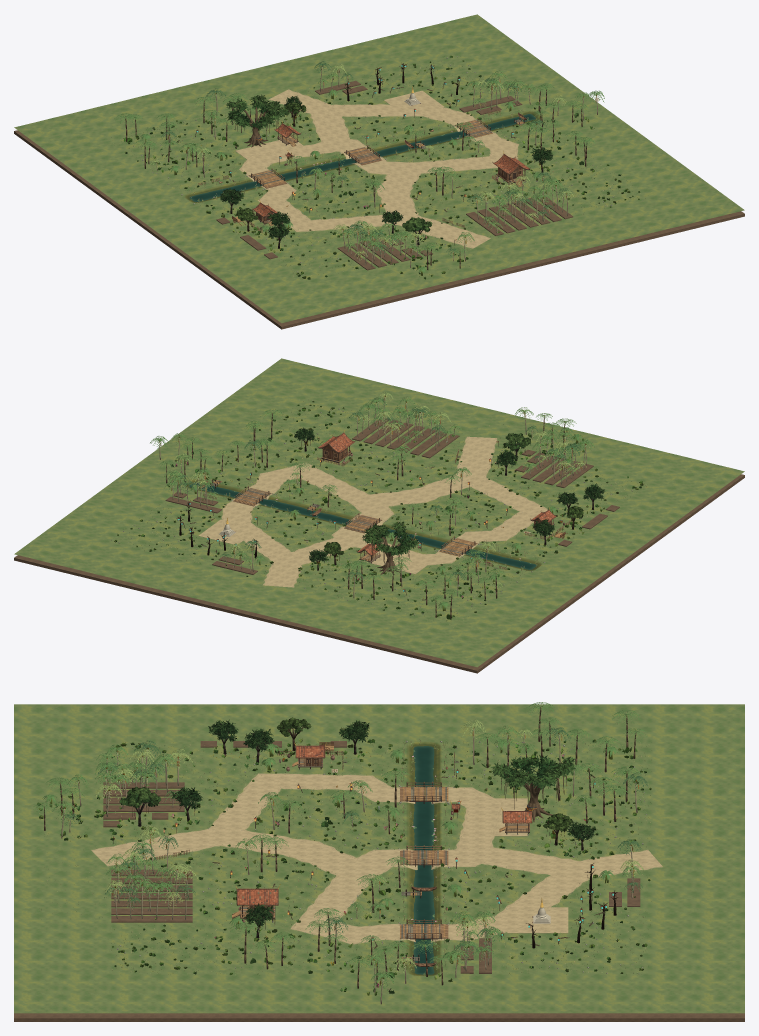
File: old-orchard.glb
3 renders of one model, top to bottom at view 1: azimuth 30°, elevation 25°; view 2: azimuth 150°, elevation 25°; view 3: azimuth 270°, elevation 25°, orthographic. The views are drawn at different scales.
Parts seen in each view (by area): view 1: Ground - varied meadow | grass, Tracks - worn earth | path, Soil foundation | earth, Raised orchard beds | earth, Organic tree foliage | real bushes, Feathered road shoulders | path_edge, Palm feather leaflets | leaf2, Areca slender trunks | arecatrunk2, Water surface | water, Areca pinnate fronds | leaf2, Areca pinnate fronds | leaf4, Areca pinnate fronds | leaf3 (+9 smaller); view 2: Ground - varied meadow | grass, Tracks - worn earth | path, Soil foundation | earth, Raised orchard beds | earth, Organic tree foliage | real bushes, Feathered road shoulders | path_edge, Palm feather leaflets | leaf2, Areca slender trunks | arecatrunk2, Water surface | water, Areca pinnate fronds | leaf2, Palm feather leaflets | leaf4, Curved palm trunks | trunk (+9 smaller); view 3: Ground - varied meadow | grass, Tracks - worn earth | path, Organic tree foliage | real bushes, Raised orchard beds | earth, Soil foundation | earth, Feathered road shoulders | path_edge, Palm feather leaflets | leaf2, Water surface | water, Areca slender trunks | arecatrunk2, Areca pinnate fronds | leaf2, Areca pinnate fronds | leaf3, Palm feather leaflets | leaf4 (+20 smaller).
Boxes of the visible parts, x1,y1,x2,y2 form: Ground - varied meadow | grass: (14,14,744,323); Tracks - worn earth | path: (242,90,516,247); Soil foundation | earth: (14,130,744,329); Raised orchard beds | earth: (216,80,573,270); Organic tree foliage | real bushes: (123,55,639,279); Feathered road shoulders | path_edge: (239,89,518,248); Palm feather leaflets | leaf2: (114,79,595,256); Areca slender trunks | arecatrunk2: (156,66,597,267); Water surface | water: (189,114,535,201); Areca pinnate fronds | leaf2: (179,70,590,251); Areca pinnate fronds | leaf4: (326,72,604,254); Areca pinnate fronds | leaf3: (193,63,573,246); Ground - varied meadow | grass: (14,358,744,667); Tracks - worn earth | path: (224,436,546,587); Soil foundation | earth: (14,474,744,673); Raised orchard beds | earth: (165,417,619,574); Organic tree foliage | real bushes: (114,401,643,620); Feathered road shoulders | path_edge: (221,436,547,587); Palm feather leaflets | leaf2: (159,409,578,603); Areca slender trunks | arecatrunk2: (159,397,586,598); Water surface | water: (189,482,536,569); Areca pinnate fronds | leaf2: (164,396,591,574); Palm feather leaflets | leaf4: (160,410,574,602); Curved palm trunks | trunk: (166,413,565,618); Ground - varied meadow | grass: (14,704,744,1013); Tracks - worn earth | path: (93,775,661,942); Organic tree foliage | real bushes: (37,738,651,995); Raised orchard beds | earth: (103,741,640,973); Soil foundation | earth: (14,1013,744,1021); Feathered road shoulders | path_edge: (91,773,662,944); Palm feather leaflets | leaf2: (33,702,646,968); Water surface | water: (413,746,434,974); Areca slender trunks | arecatrunk2: (61,728,637,1004); Areca pinnate fronds | leaf2: (52,725,585,967); Areca pinnate fronds | leaf3: (95,719,643,973); Palm feather leaflets | leaf4: (34,702,646,966).
Size of the model in its own units: 180 by 17.49 by 180.
59 materials, 59 textured.
